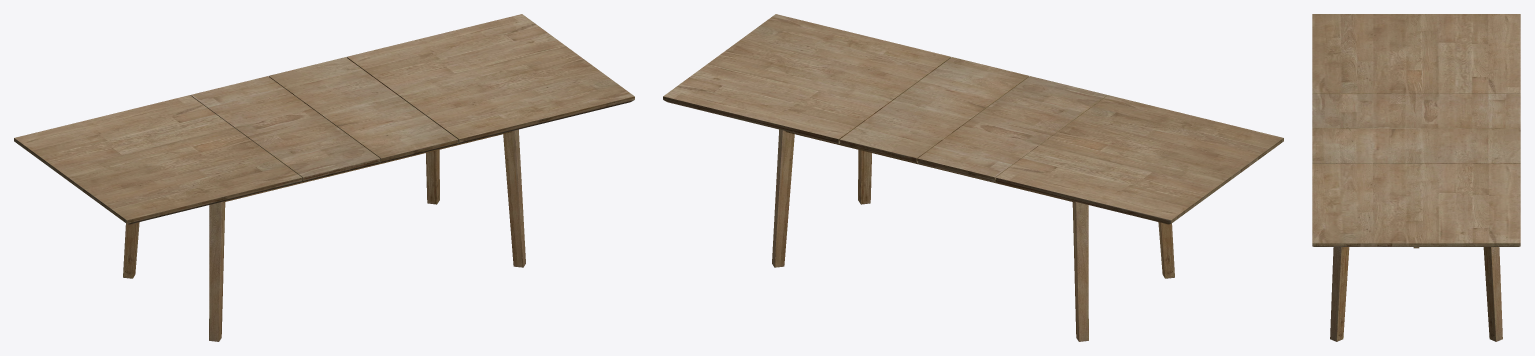
File: abo-B07HSJXP8D.glb
3 views of the same model, side by side, from view 1: azimuth 30°, elevation 25°; view 2: azimuth 150°, elevation 25°; view 3: azimuth 270°, elevation 25° (orthographic). The views are drawn at different scales.
Size of the model in its own units: 2.6 by 0.752 by 1.
1 material, 1 textured.
